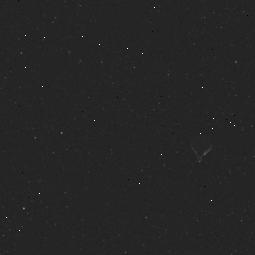debris: (180, 133, 217, 164)
